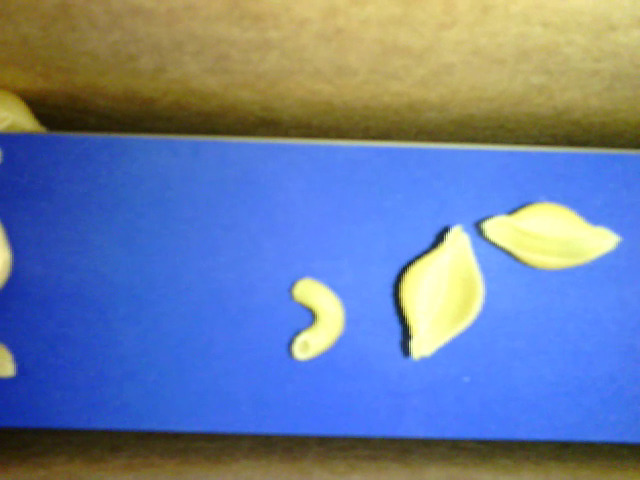elbow: (289, 274, 346, 363), (1, 108, 17, 128)
shell: (390, 223, 486, 363), (480, 197, 621, 274), (1, 90, 56, 130)
